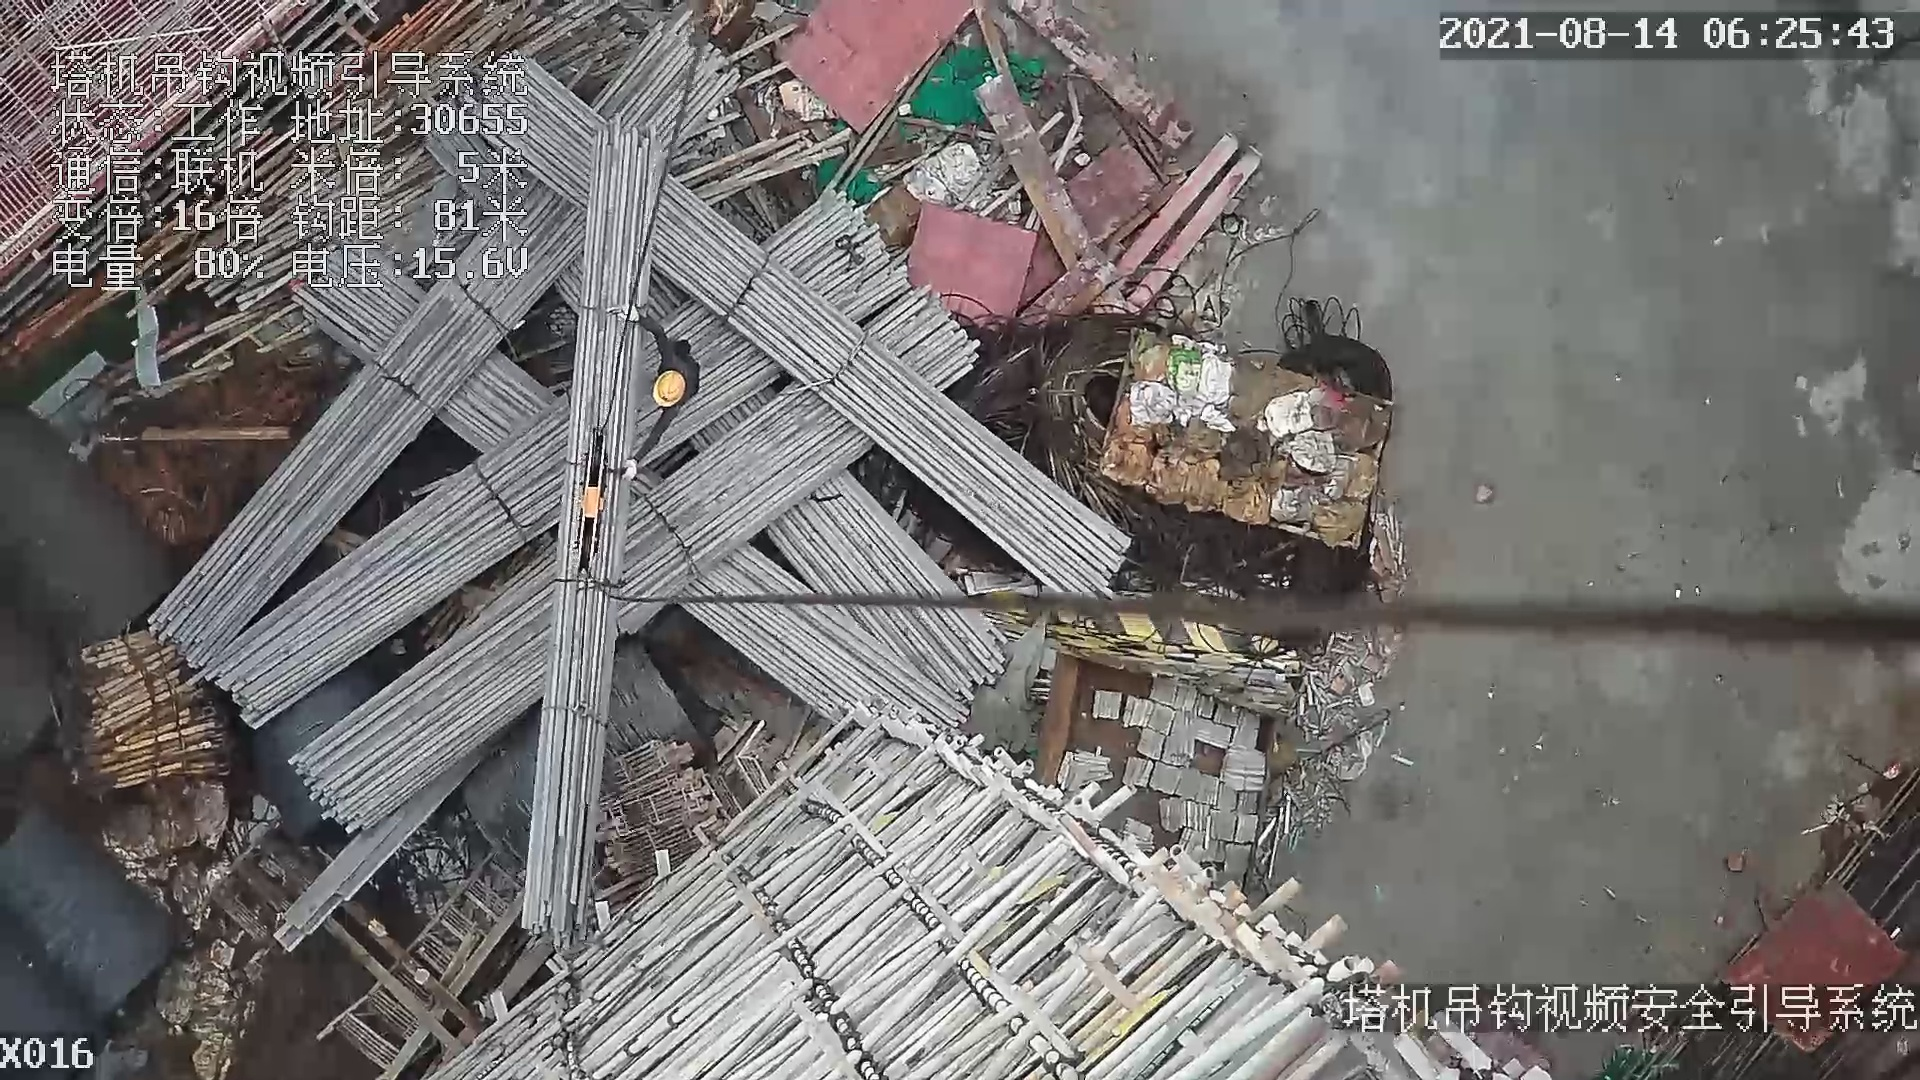helmet: (656, 354, 687, 416)
hook: (577, 423, 603, 583)
person: (612, 297, 708, 478)
